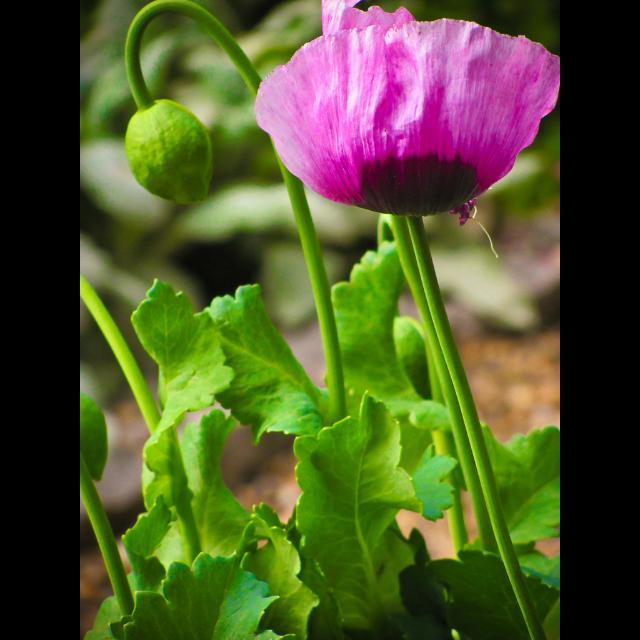Flower: (252, 5, 558, 233)
